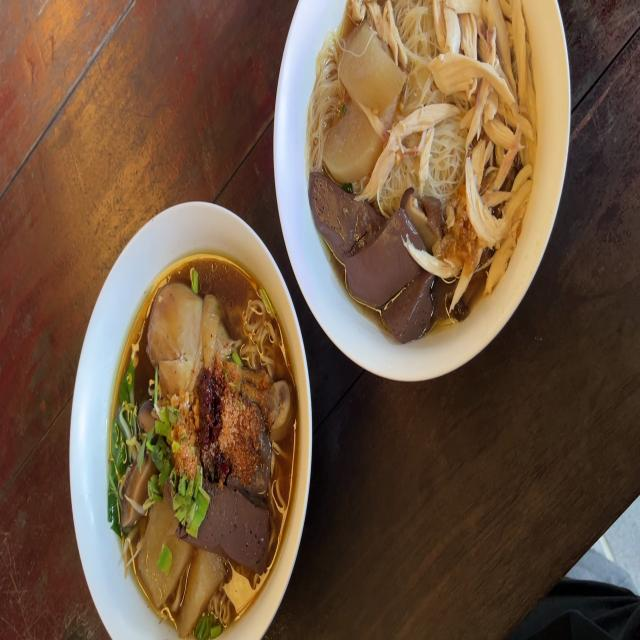noodle: (305, 0, 533, 303), (111, 270, 302, 606)
